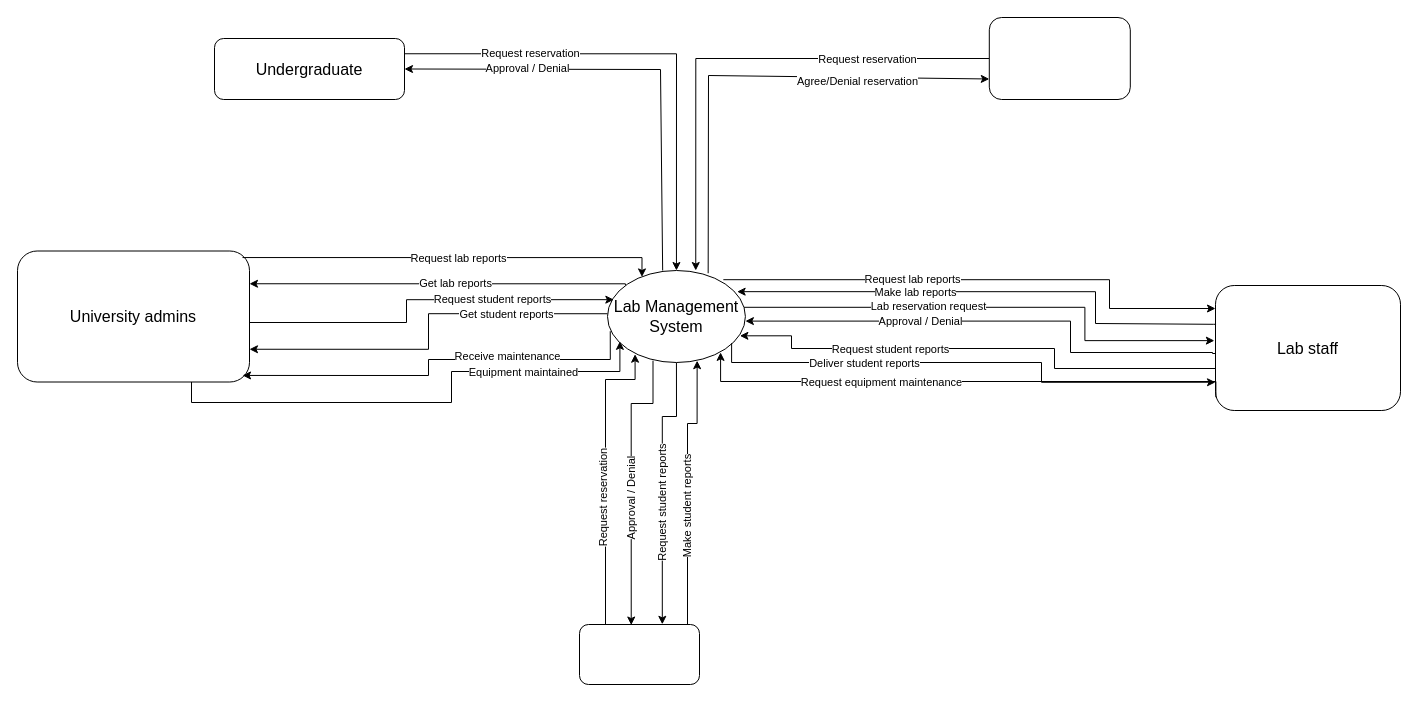
Some shapes in this 1418 by 702 pixel diagram are drawn without their labels. The shapes that lost their labels are listed below. From the top down, each one's centre as x and y in pixels, then its label:
At (x=1059, y=58): "Postgraduate".
At (x=639, y=654): "Doctors".
